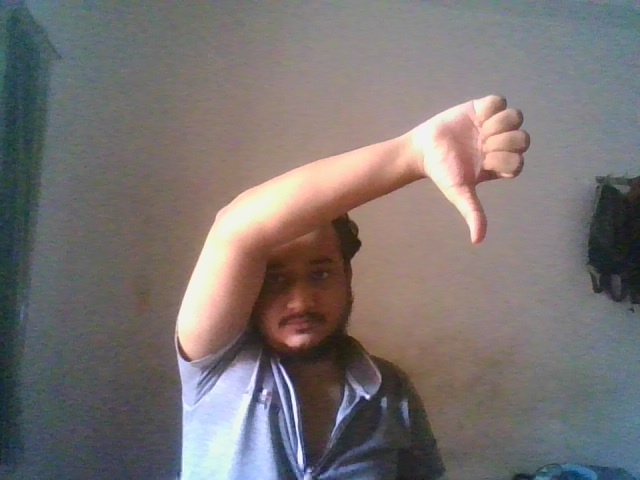ThumbsDown: (418, 95, 532, 248)
